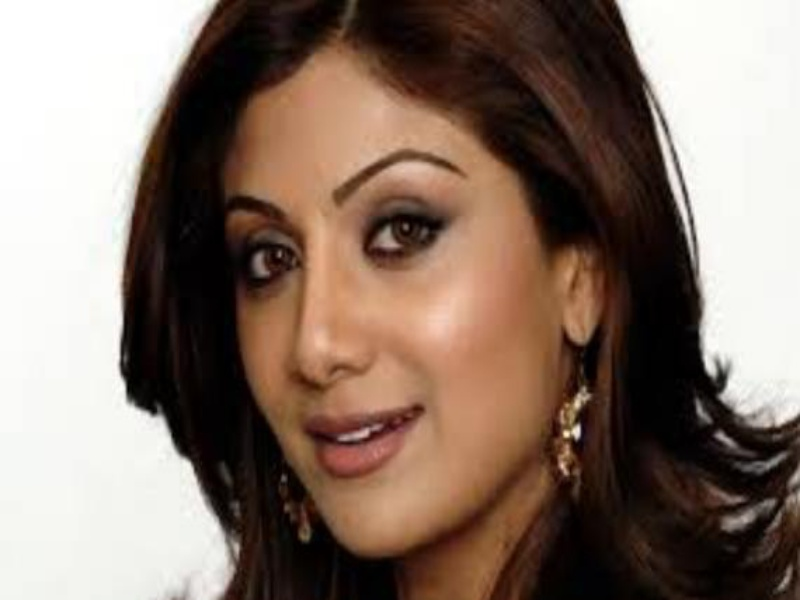TsisyArotava: (170, 41, 598, 568)
